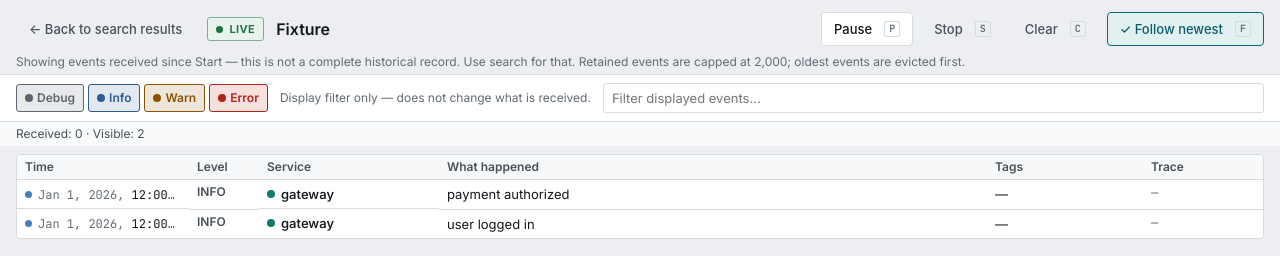
Test: LiveTailPanel › text filtering (Legacy Remediation Slice 5) › filters displayed events by message substring, case-insensitively
The image size is (1280, 256).
Type "PAYMENT" into the field with placeholder "Filter displayed events…". click: (933, 98)
box: [603,83,1264,113]
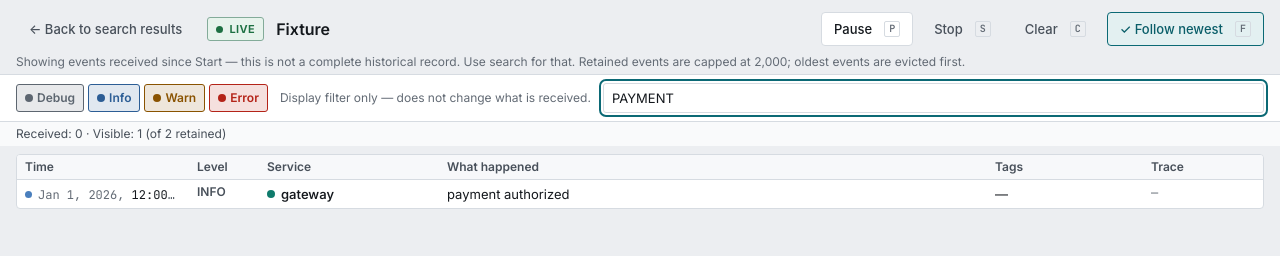
expect the text "payment authorized" is shown: met, box [439,180,987,208]
expect the text "user logged in" is gone: met
